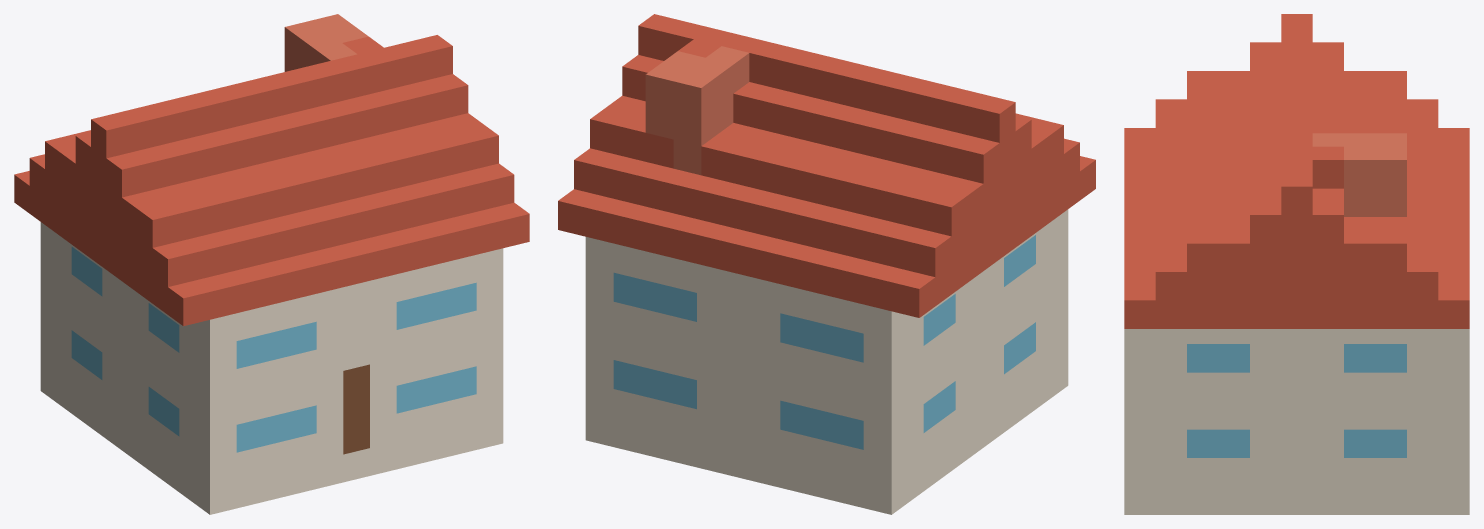
File: house.glb
The picture shows the model from 3 angles, left to right: view 1: azimuth 30°, elevation 25°; view 2: azimuth 150°, elevation 25°; view 3: azimuth 270°, elevation 25°; orthographic projection. The views are drawn at different scales.
Visible parts, largest first — view 1: house_roof_red, house_wall_cream, house_window, house_brick, house_door; view 2: house_roof_red, house_wall_cream, house_window, house_brick; view 3: house_roof_red, house_wall_cream, house_window, house_brick.
Part boxes in pixels (x1,y1,x2,y2): house_roof_red: (14,35,529,326); house_wall_cream: (40,222,503,514); house_window: (71,247,476,452); house_brick: (284,14,368,71); house_door: (343,364,369,454); house_roof_red: (558,14,1095,317); house_wall_cream: (585,209,1068,514); house_window: (613,235,1035,449); house_brick: (645,46,749,175); house_roof_red: (1124,14,1469,328); house_wall_cream: (1124,329,1469,514); house_window: (1187,344,1406,457); house_brick: (1312,133,1406,216).
Bounding box in the file's own units: 9.88 × 9.12 × 8.36.
